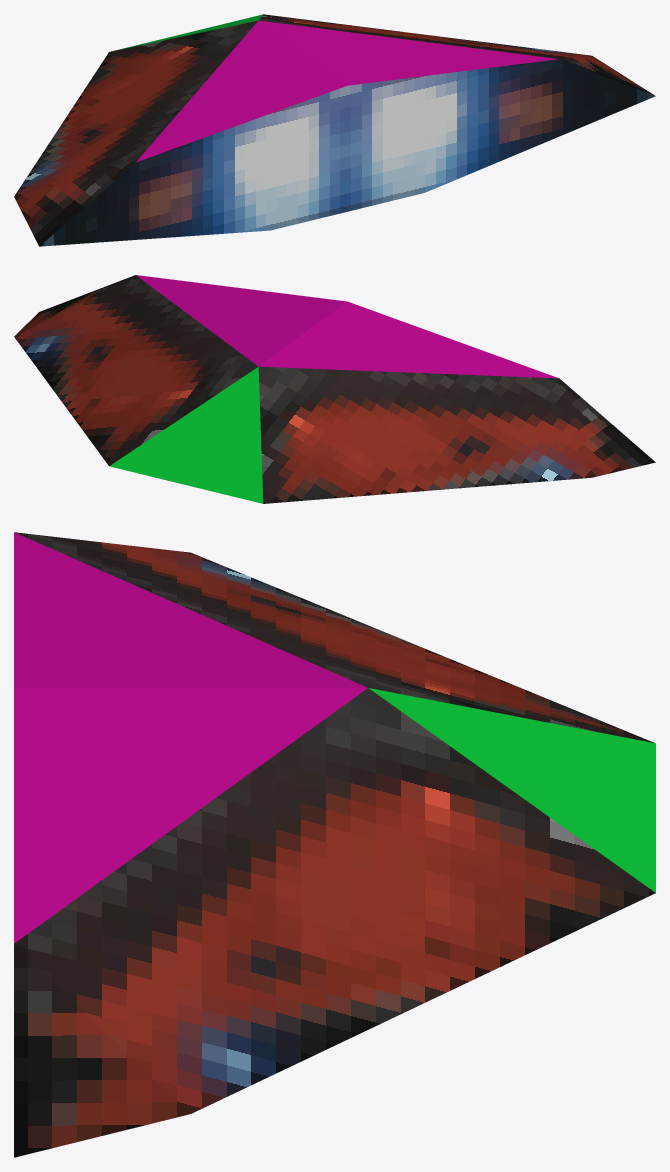
The model's file is COBRA2.obj.
3 renders of one model, top to bottom at view 1: azimuth 30°, elevation 25°; view 2: azimuth 150°, elevation 25°; view 3: azimuth 270°, elevation 25°, orthographic. The views are drawn at different scales.
Visible parts, largest first — view 1: TEXTURE, Purple, Green; view 2: TEXTURE, Purple, Green; view 3: TEXTURE, Purple, Green.
Boxes of the visible parts, left/top/right/bottom form: TEXTURE: left=14, top=14, right=655, bottom=246; Purple: left=136, top=20, right=559, bottom=162; Green: left=112, top=14, right=262, bottom=51; TEXTURE: left=14, top=275, right=655, bottom=503; Purple: left=136, top=275, right=558, bottom=378; Green: left=109, top=367, right=263, bottom=503; TEXTURE: left=14, top=532, right=655, bottom=1157; Purple: left=14, top=532, right=367, bottom=943; Green: left=369, top=688, right=655, bottom=892.
Size of the model in its own units: 6.91 by 1.35 by 3.13.
